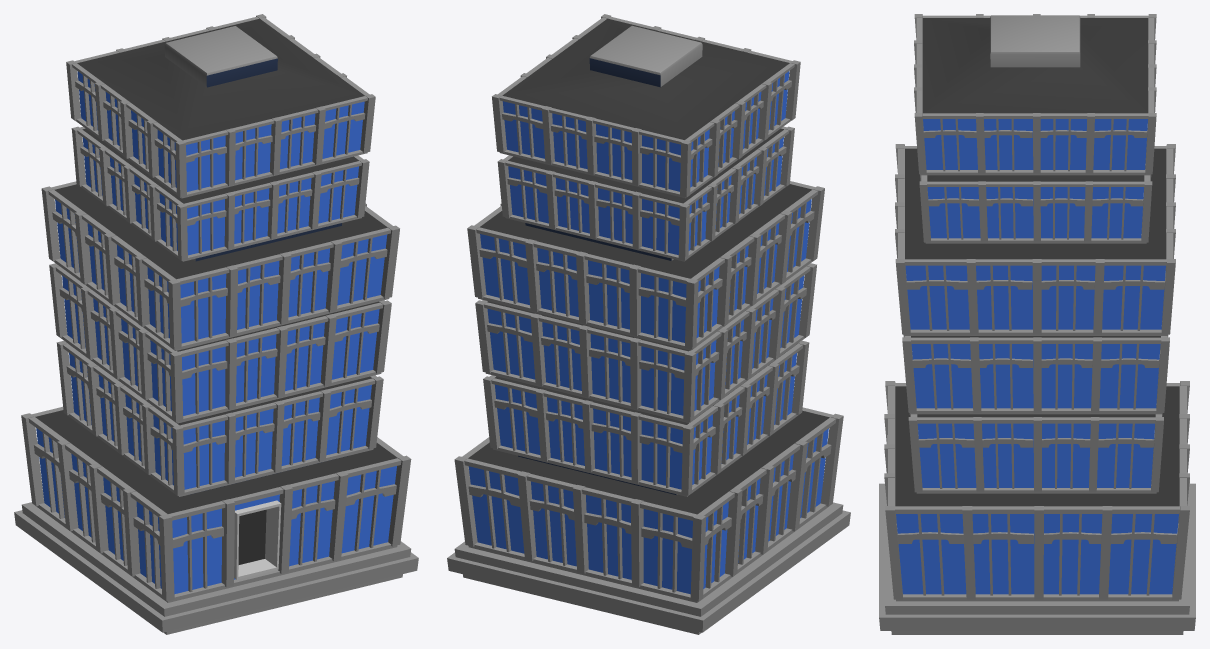
The model's file is Empire Building #1.FBX.
3 views of the same model, side by side, from view 1: azimuth 30°, elevation 25°; view 2: azimuth 150°, elevation 25°; view 3: azimuth 270°, elevation 25° (orthographic). The views are drawn at different scales.
Visible parts, largest first — view 1: Empire Building #1; view 2: Empire Building #1; view 3: Empire Building #1.
Part boxes in pixels (x1,y1,x2,y2): Empire Building #1: [14, 14, 418, 634]; Empire Building #1: [447, 14, 850, 634]; Empire Building #1: [879, 14, 1195, 634].
Bounding box in the file's own units: 22.26 × 42.06 × 22.26.
